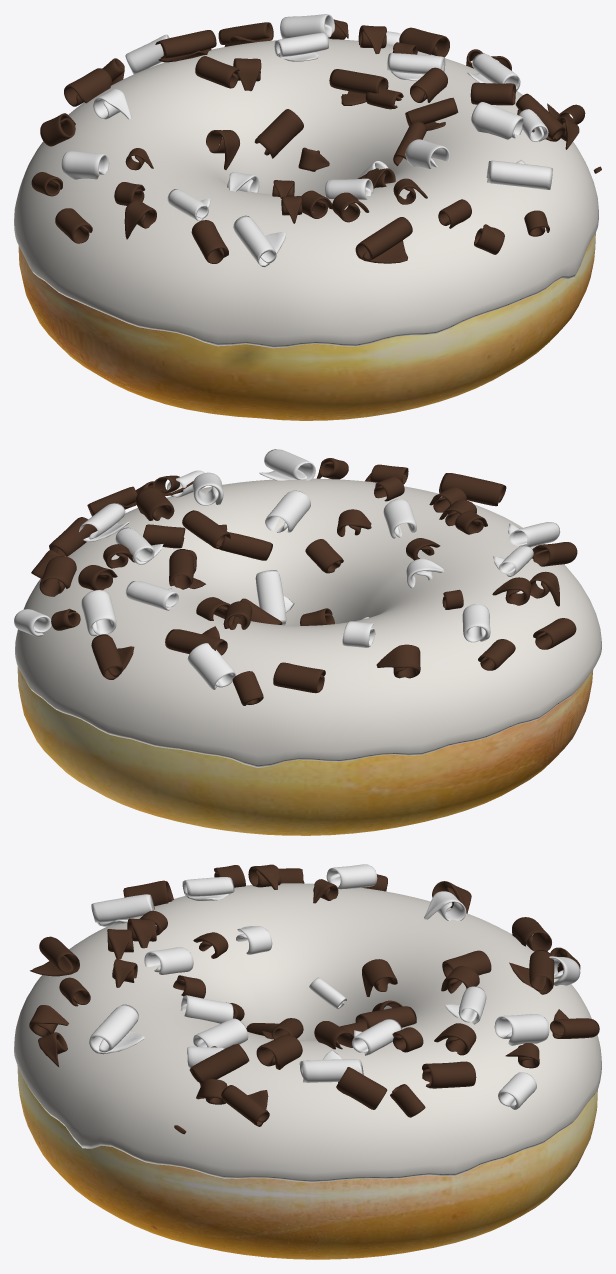
File: white two in one curls.glb
3 renders of one model, top to bottom at view 1: azimuth 30°, elevation 25°; view 2: azimuth 150°, elevation 25°; view 3: azimuth 270°, elevation 25°, orthographic. The views are drawn at different scales.
Parts seen in each view (by area): view 1: chocolate.003, two in one, Torus; view 2: chocolate.003, two in one, Torus; view 3: chocolate.003, two in one, Torus.
Part boxes in pixels (x1,y1,x2,y2): chocolate.003: [14, 39, 598, 348]; two in one: [31, 14, 601, 267]; Torus: [18, 233, 595, 420]; chocolate.003: [15, 478, 601, 767]; two in one: [14, 449, 577, 705]; Torus: [17, 666, 592, 835]; chocolate.003: [14, 883, 601, 1182]; two in one: [29, 864, 599, 1134]; Torus: [17, 1065, 597, 1259].
Bounding box in the file's own units: 0.1988 × 0.0804 × 0.1971.
4 materials, 1 textured.
